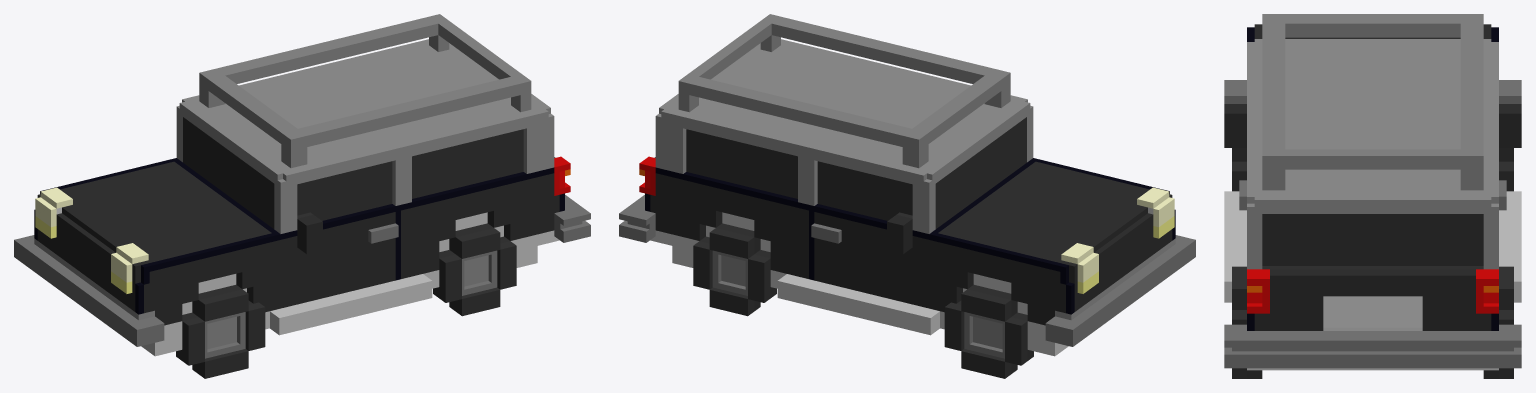
File: car-1.obj
The picture shows the model from 3 angles, left to right: view 1: azimuth 30°, elevation 25°; view 2: azimuth 150°, elevation 25°; view 3: azimuth 270°, elevation 25°; orthographic projection. The views are drawn at different scales.
Size of the model in its own units: 8.3 by 3.6 by 3.9.
Materials: 1 (1 with a texture image).
